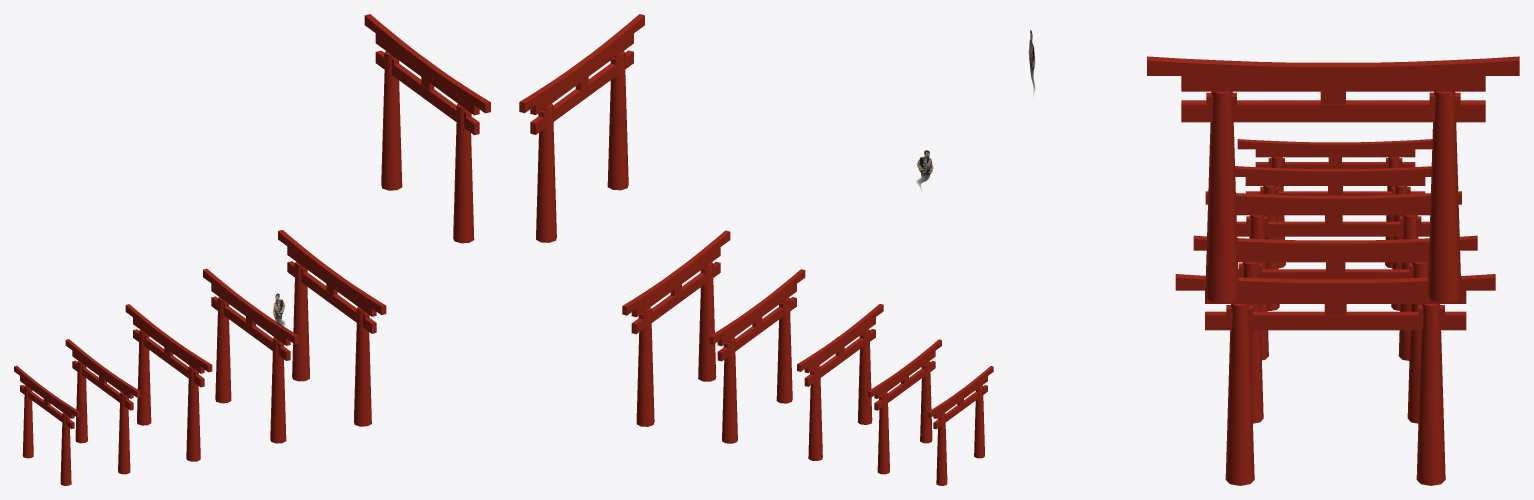
Rendered from gate_keelung.glb.
3 views of the same model, side by side, from view 1: azimuth 30°, elevation 25°; view 2: azimuth 150°, elevation 25°; view 3: azimuth 270°, elevation 25° (orthographic). The views are drawn at different scales.
Visible parts, largest first — view 1: B2C2_599302_toriigate4, B2C2_599302_toriigate4.001, B2C2_599302_toriigate4.002, B2C2_599302_toriigate4.003, B2C2_599302_toriigate4.004, B2C2_599302_toriigate4.005; view 2: B2C2_599302_toriigate4, B2C2_599302_toriigate4.001, B2C2_599302_toriigate4.002, B2C2_599302_toriigate4.003, B2C2_599302_toriigate4.004, B2C2_599302_toriigate4.005; view 3: B2C2_599302_toriigate4, B2C2_599302_toriigate4.001, B2C2_599302_toriigate4.002, B2C2_599302_toriigate4.003, B2C2_599302_toriigate4.004, B2C2_599302_toriigate4.005.
Boxes of the visible parts, left/top/right/bottom form: B2C2_599302_toriigate4: left=364, top=14, right=490, bottom=243; B2C2_599302_toriigate4.001: left=278, top=230, right=386, bottom=426; B2C2_599302_toriigate4.002: left=203, top=268, right=298, bottom=443; B2C2_599302_toriigate4.003: left=125, top=304, right=212, bottom=461; B2C2_599302_toriigate4.004: left=65, top=339, right=140, bottom=474; B2C2_599302_toriigate4.005: left=14, top=365, right=80, bottom=485; B2C2_599302_toriigate4: left=519, top=14, right=644, bottom=242; B2C2_599302_toriigate4.001: left=622, top=230, right=730, bottom=426; B2C2_599302_toriigate4.002: left=709, top=269, right=805, bottom=443; B2C2_599302_toriigate4.003: left=797, top=304, right=883, bottom=460; B2C2_599302_toriigate4.004: left=868, top=339, right=941, bottom=474; B2C2_599302_toriigate4.005: left=927, top=366, right=993, bottom=485; B2C2_599302_toriigate4: left=1147, top=56, right=1519, bottom=303; B2C2_599302_toriigate4.001: left=1175, top=274, right=1495, bottom=485; B2C2_599302_toriigate4.002: left=1193, top=235, right=1477, bottom=423; B2C2_599302_toriigate4.003: left=1205, top=191, right=1461, bottom=360; B2C2_599302_toriigate4.004: left=1235, top=166, right=1431, bottom=310; B2C2_599302_toriigate4.005: left=1237, top=139, right=1432, bottom=268.
Size of the model in its own units: 46.22 by 35.72 by 32.65.
Materials: 2 (1 with a texture image).
